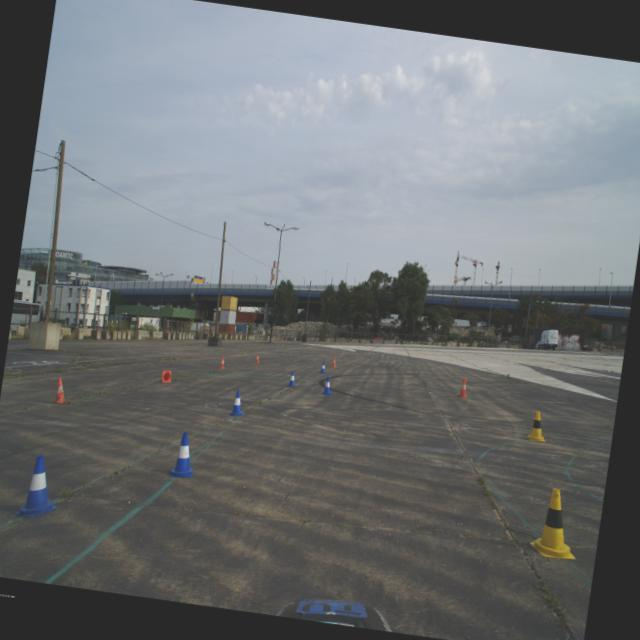blue_cone: (14, 452, 64, 522), (169, 430, 199, 480), (228, 390, 248, 418), (321, 376, 335, 396), (287, 370, 298, 388), (320, 362, 328, 374)
orange_cone: (54, 377, 70, 405), (458, 377, 470, 398), (161, 369, 172, 384), (218, 356, 226, 370), (331, 356, 338, 368), (255, 352, 261, 364)
yellow_cone: (528, 486, 584, 561), (526, 410, 549, 442)
